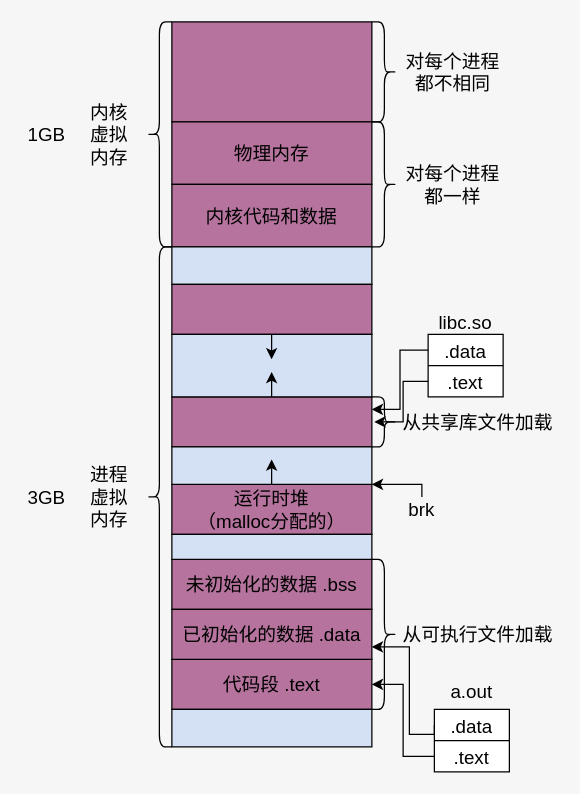
The diagram is 580 pixels wide and 794 high, and some of its shapes have lost their labels. Each missing label, with the centre of its shape:
"与进程相关的数据结构（例如：页表、task和mm结构，内核栈）" belongs at (271,71).
"共享库的内存映射区域" belongs at (271,421).
"用户栈" belongs at (271,308).
